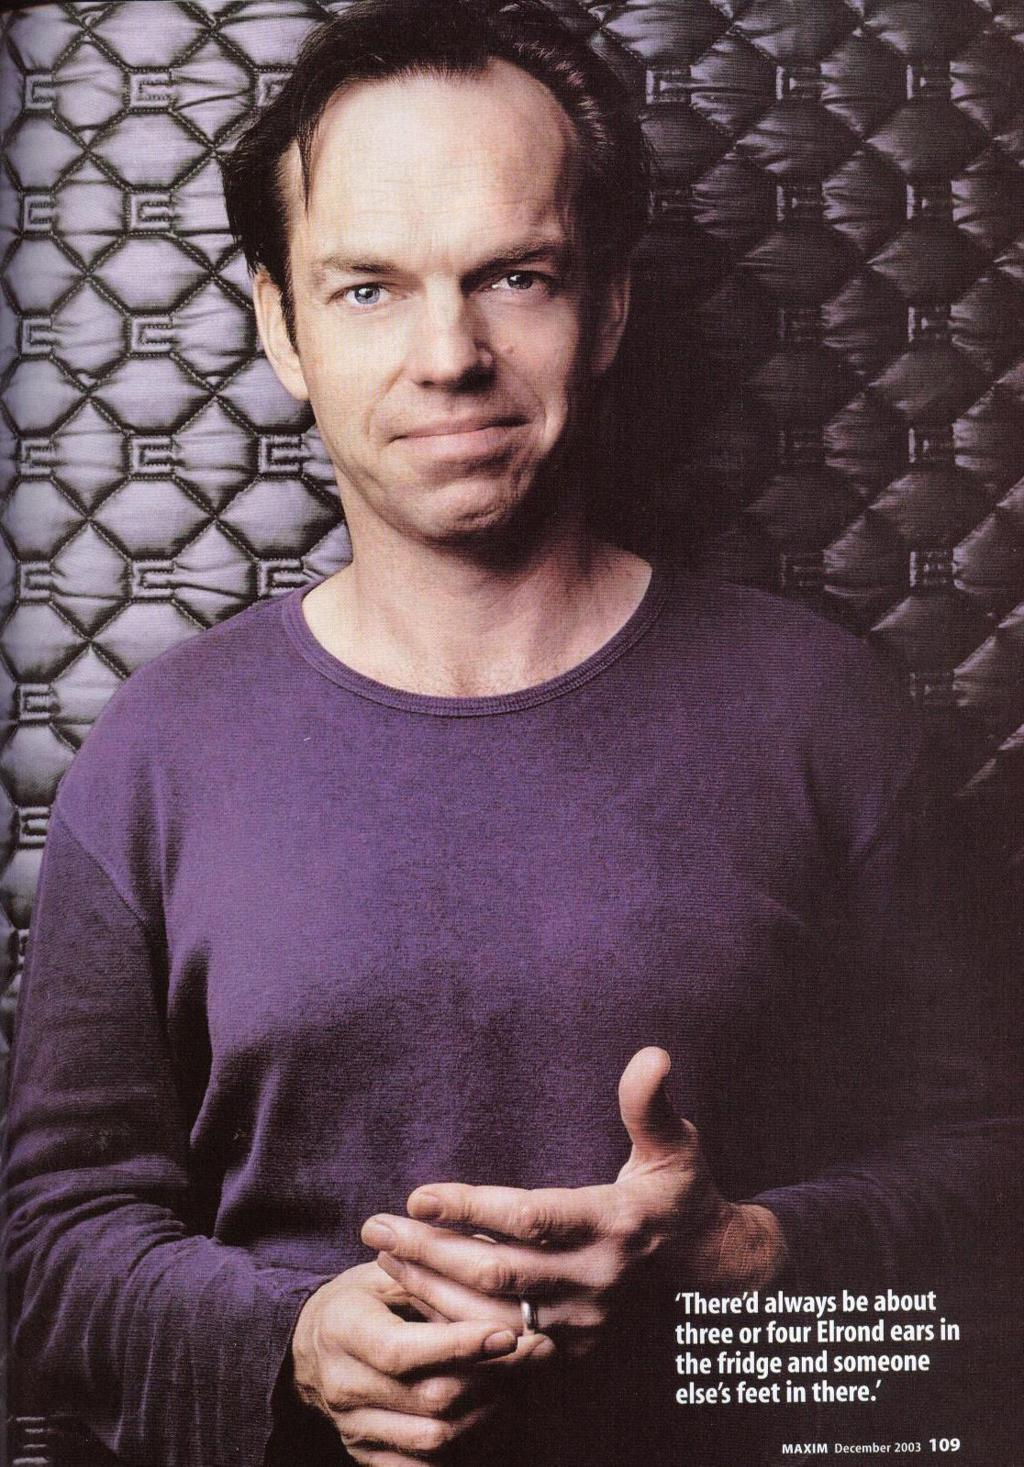face: (280, 112, 586, 527)
